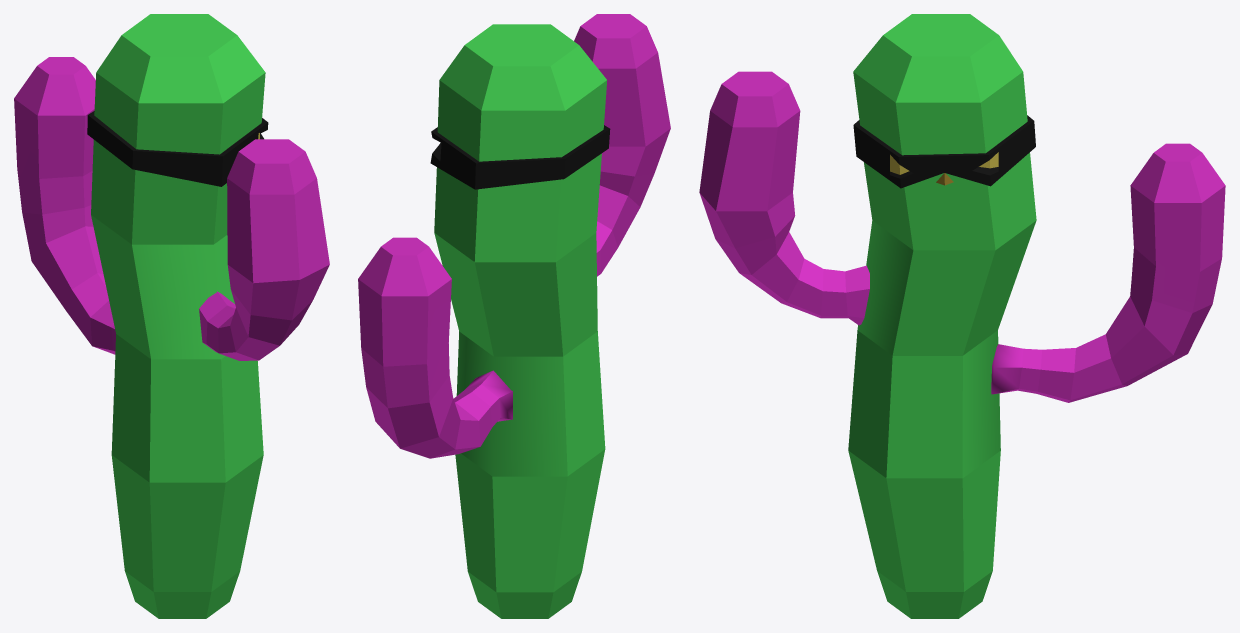
Rendered from menel bez rąk 2.fbx.
The picture shows the model from 3 angles, left to right: view 1: azimuth 30°, elevation 25°; view 2: azimuth 150°, elevation 25°; view 3: azimuth 270°, elevation 25°; orthographic projection.
Parts seen in each view (by area): view 1: Cylinder; view 2: Cylinder; view 3: Cylinder.
Part boxes in pixels (x1,y1,x2,y2): Cylinder: (14, 14, 329, 618); Cylinder: (358, 14, 670, 618); Cylinder: (699, 14, 1225, 618).
Bounding box in the file's own units: 287 × 1079 × 909.
